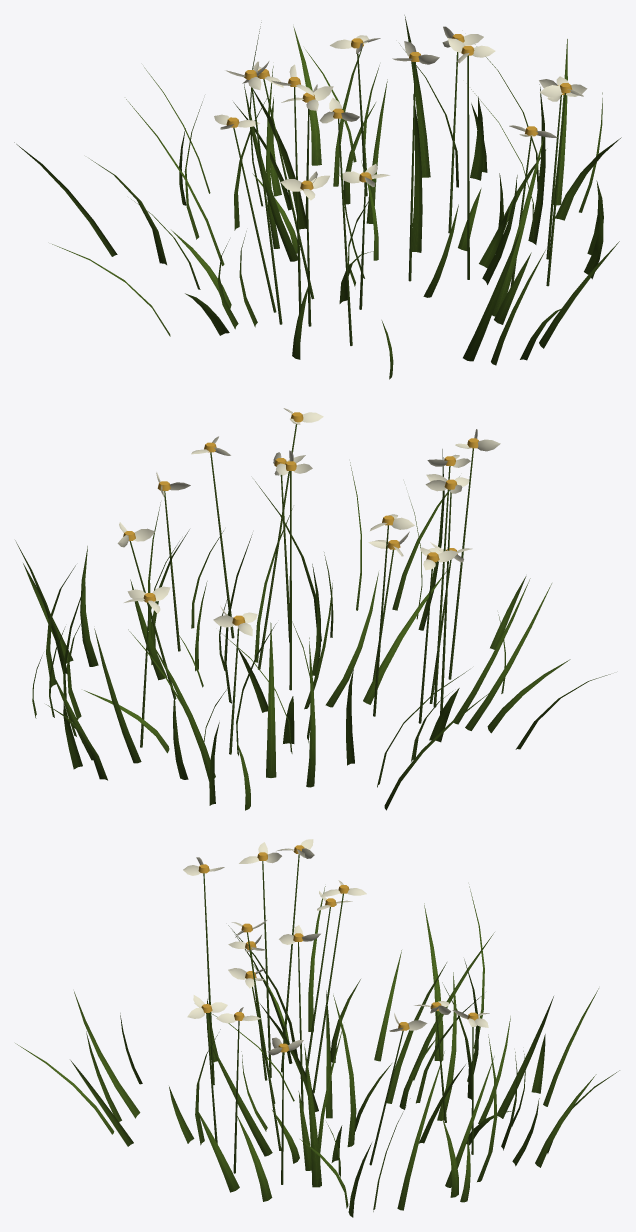
File: meadow_flowers_lod1.gltf
3 renders of one model, top to bottom at view 1: azimuth 30°, elevation 25°; view 2: azimuth 150°, elevation 25°; view 3: azimuth 270°, elevation 25°, orthographic. The views are drawn at different scales.
Visible parts, largest first — view 1: meadow_flowers_lod1; view 2: meadow_flowers_lod1; view 3: meadow_flowers_lod1.
Part boxes in pixels (bbox=[...]): meadow_flowers_lod1: bbox=[14, 15, 621, 379]; meadow_flowers_lod1: bbox=[15, 408, 610, 810]; meadow_flowers_lod1: bbox=[15, 839, 619, 1217].
Bounding box in the file's own units: 0.9893 × 0.4195 × 1.03.
Materials: 3 (1 with a texture image).
